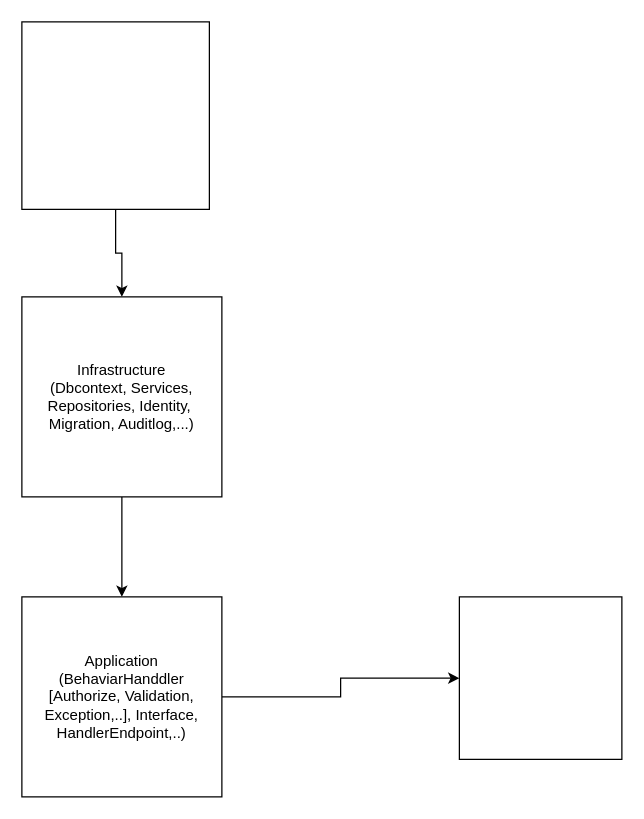
Image size: 644x819. Some labels were removed from this diagram. Here are the shapes that lost their labels. From the top down, the box of each, then its label:
(21, 21, 209, 209): API (Controller)
(458, 596, 622, 759): Domain (Entity)
